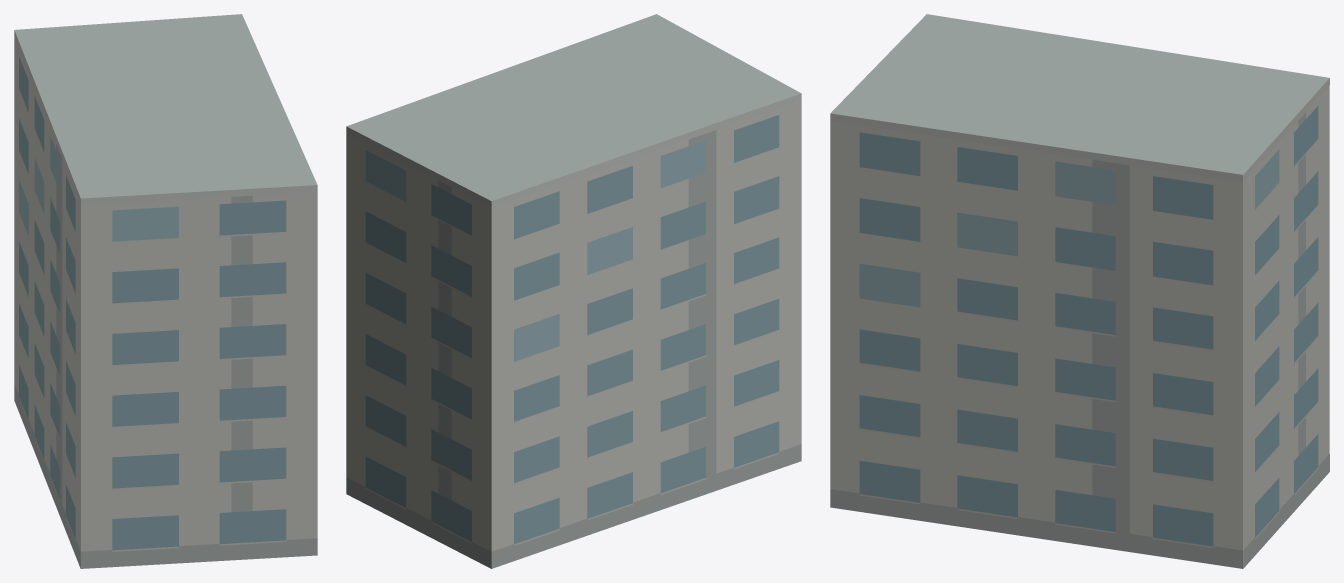
The model's file is survey-upis-32935574.glb.
The picture shows the model from 3 angles, left to right: view 1: azimuth 30°, elevation 25°; view 2: azimuth 150°, elevation 25°; view 3: azimuth 270°, elevation 25°; orthographic projection. The views are drawn at different scales.
Parts seen in each view (by area): view 1: survey-upis-32935574.tmp; view 2: survey-upis-32935574.tmp; view 3: survey-upis-32935574.tmp.
Boxes of the visible parts, <box> form: survey-upis-32935574.tmp: <box>14,14,317,568</box>; survey-upis-32935574.tmp: <box>346,14,801,568</box>; survey-upis-32935574.tmp: <box>830,14,1329,568</box>.
Bounding box in the file's own units: 11.39 × 13 × 14.95.
